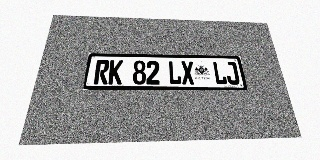2: (146, 61, 159, 85)
8: (132, 60, 146, 84)
J: (224, 62, 240, 85)
K: (108, 60, 123, 84)
L: (212, 62, 228, 85), (168, 61, 182, 85)
R: (93, 60, 110, 84)
X: (181, 61, 195, 85)
